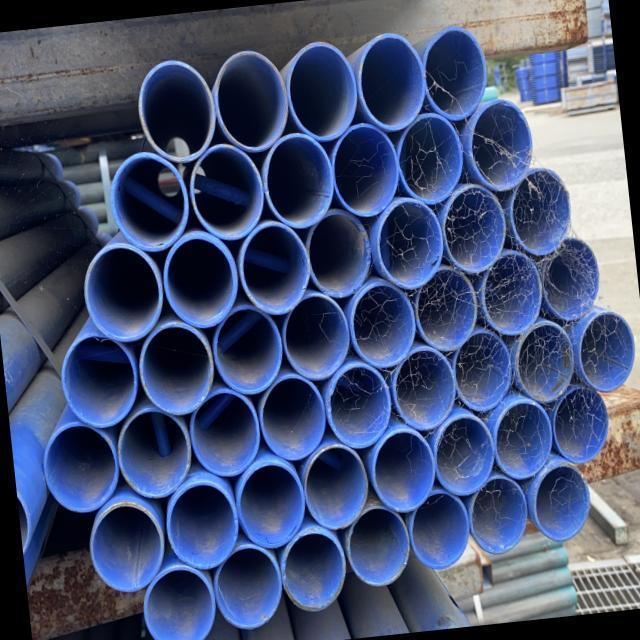pipe: (104, 146, 194, 256), (133, 55, 221, 167), (78, 237, 168, 346), (210, 46, 292, 156), (184, 138, 268, 245), (56, 327, 142, 431), (158, 227, 243, 332), (134, 316, 218, 419), (282, 38, 362, 146), (84, 496, 170, 596), (38, 417, 123, 518), (112, 402, 196, 502), (258, 129, 338, 232), (235, 217, 315, 320), (161, 474, 243, 574), (352, 29, 430, 134), (326, 117, 404, 220), (183, 382, 264, 480), (208, 299, 286, 398), (371, 192, 448, 292), (418, 22, 492, 124), (232, 455, 309, 552), (392, 109, 467, 208), (278, 287, 354, 383), (302, 204, 376, 302), (210, 538, 287, 632), (464, 94, 536, 194), (438, 180, 512, 277), (256, 369, 330, 464), (346, 276, 420, 370), (322, 358, 396, 452), (366, 424, 441, 516), (299, 439, 373, 532), (410, 260, 482, 354), (388, 342, 460, 434), (506, 164, 576, 258), (477, 246, 546, 340), (278, 524, 350, 614), (139, 561, 220, 640), (342, 500, 413, 590), (535, 232, 604, 324), (404, 484, 474, 572), (448, 324, 516, 414), (511, 317, 578, 406), (431, 410, 498, 498), (489, 394, 556, 482), (574, 306, 640, 394), (465, 471, 532, 557), (528, 458, 595, 544), (548, 381, 613, 466)
